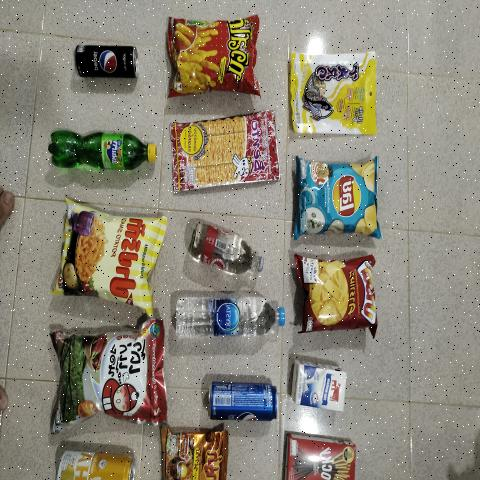bento_red: (168, 110, 278, 194)
crystal: (169, 292, 287, 338)
fanta_green: (44, 129, 157, 174)
lay_blue: (304, 163, 375, 233)
mama: (164, 430, 224, 479)
paprika: (54, 210, 160, 306)
party_red: (300, 261, 378, 333)
pepsi_black: (70, 41, 139, 79)
pepsi_blue: (203, 379, 280, 425)
pokki: (284, 439, 358, 478)
singha_soda: (183, 220, 265, 282)
taokaenoi: (54, 327, 166, 421)
taro_yellow: (293, 52, 373, 132)
thai_denmark: (287, 362, 345, 408)
twisco: (172, 19, 258, 90)
